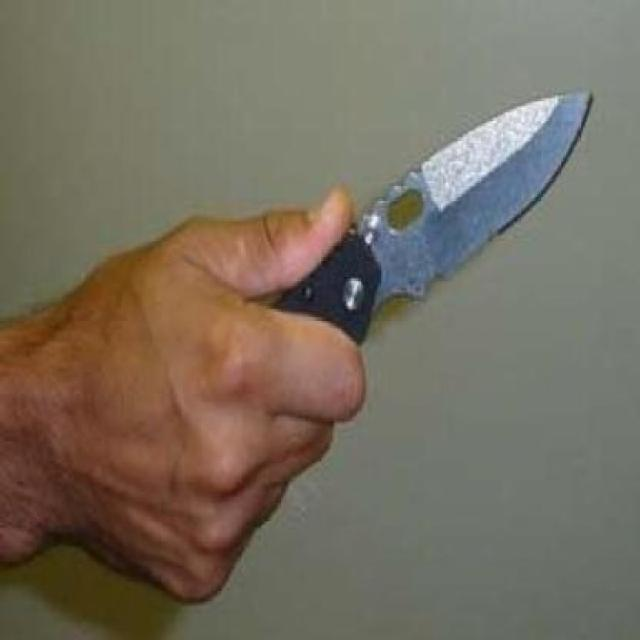knife: (274, 92, 592, 346)
